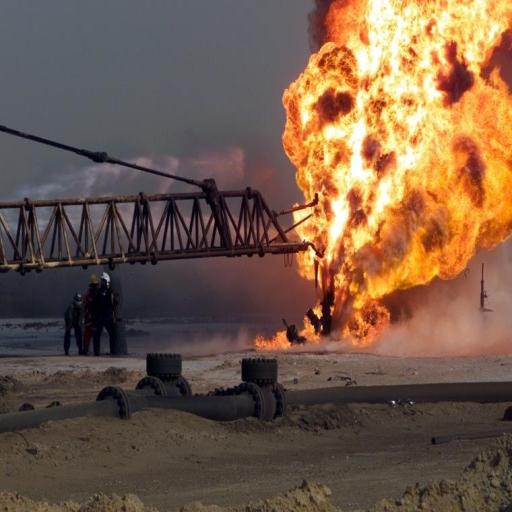fire: (283, 0, 511, 344), (254, 331, 294, 350), (254, 331, 291, 349)
smoke: (371, 241, 511, 356), (16, 164, 179, 198)
